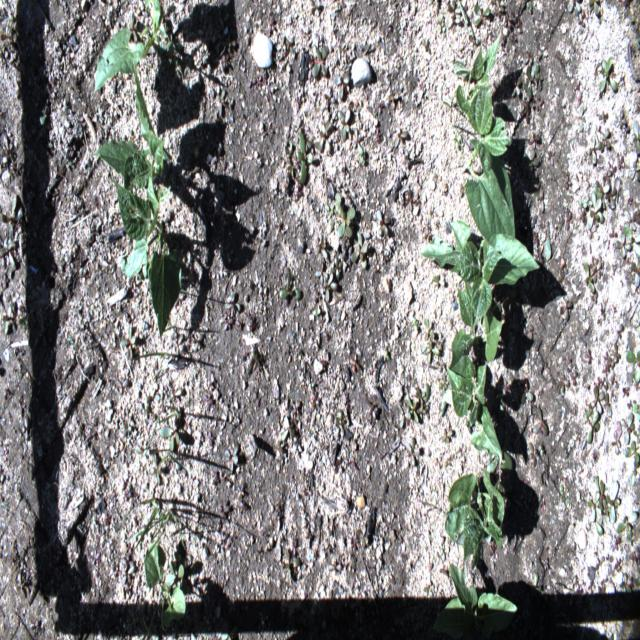crop: (85, 58, 182, 338), (451, 28, 521, 264), (420, 219, 541, 320), (92, 0, 173, 101), (441, 363, 502, 484), (432, 563, 518, 639), (445, 468, 507, 567), (449, 280, 507, 379), (145, 542, 185, 628)
weed: (120, 497, 187, 570), (334, 192, 356, 238), (296, 130, 313, 184), (586, 187, 605, 229), (597, 56, 618, 92), (606, 481, 620, 523), (159, 426, 179, 454), (474, 4, 491, 27)
